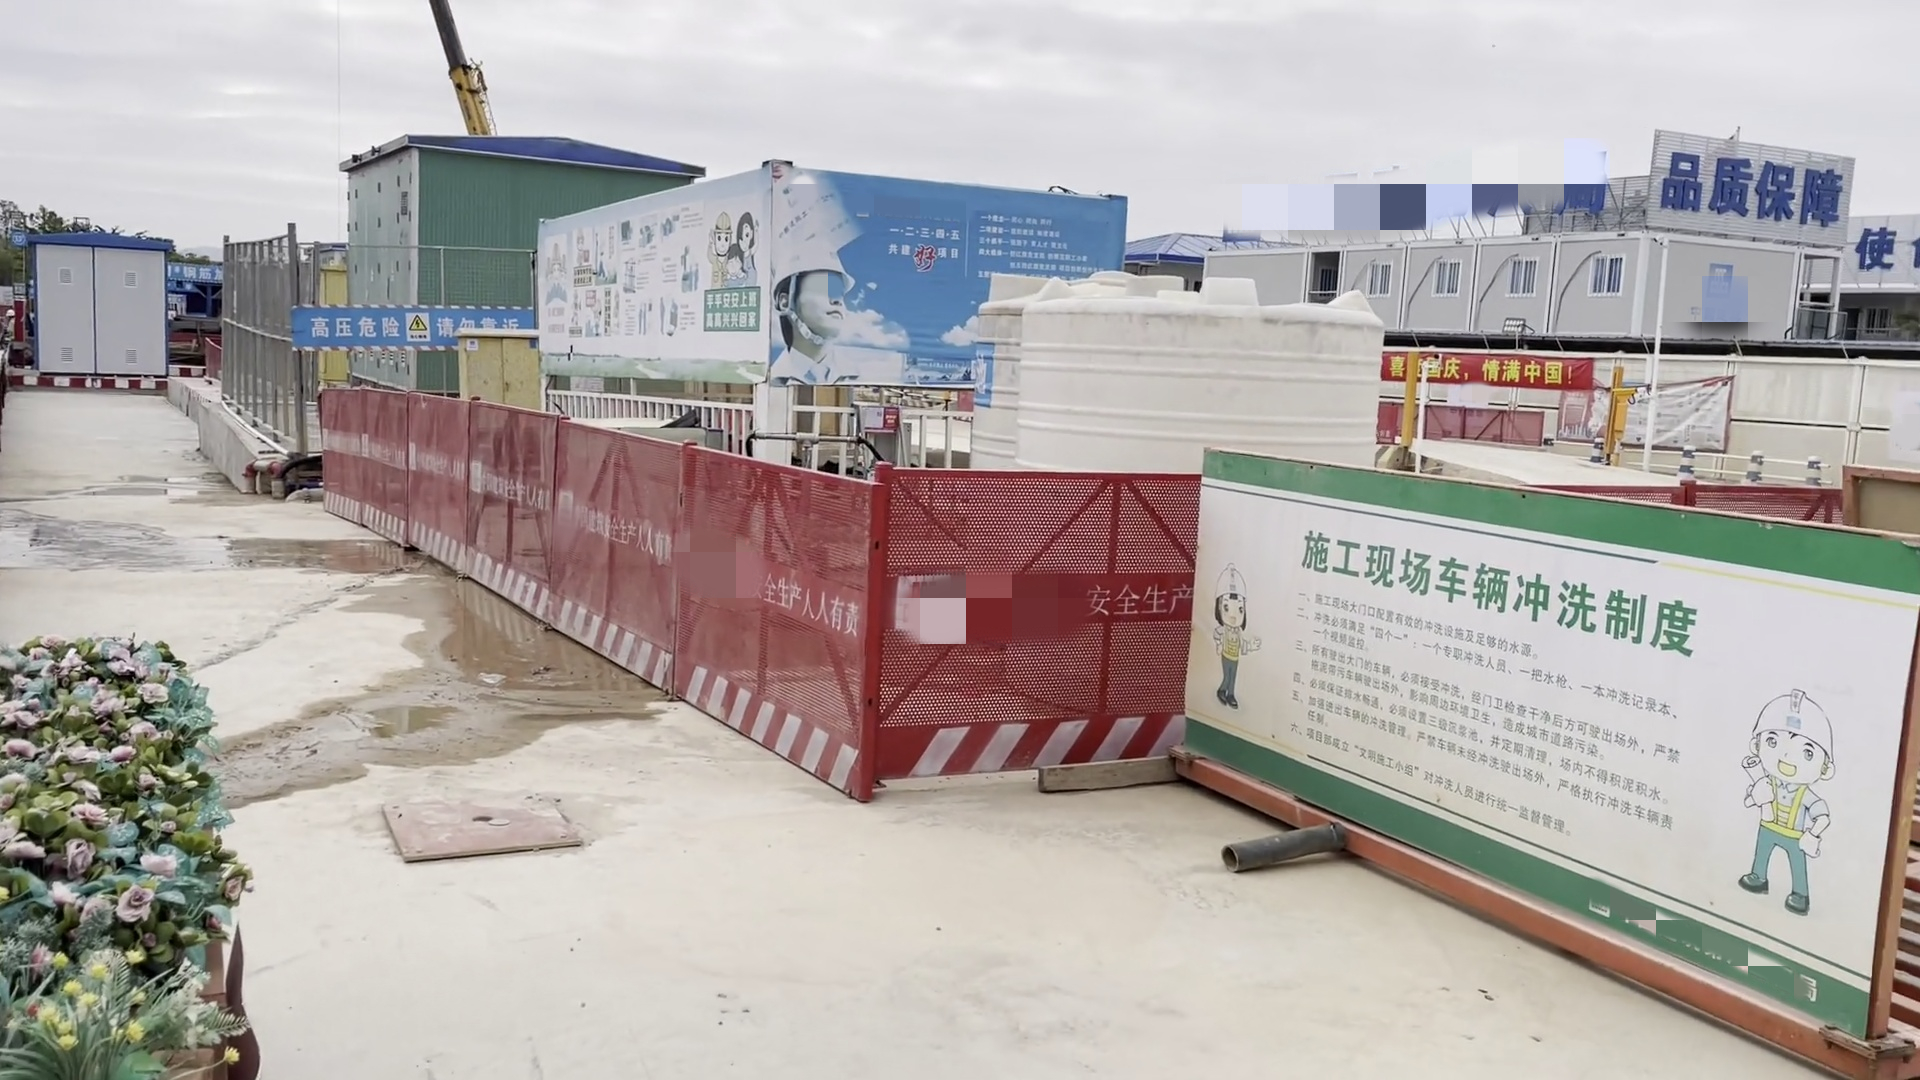ebox: (447, 335, 550, 406)
fence: (313, 386, 880, 843), (873, 462, 1185, 765), (1379, 400, 1538, 446)
slogan: (1654, 145, 1847, 243), (1382, 352, 1590, 400), (289, 309, 520, 342), (702, 287, 757, 328)
